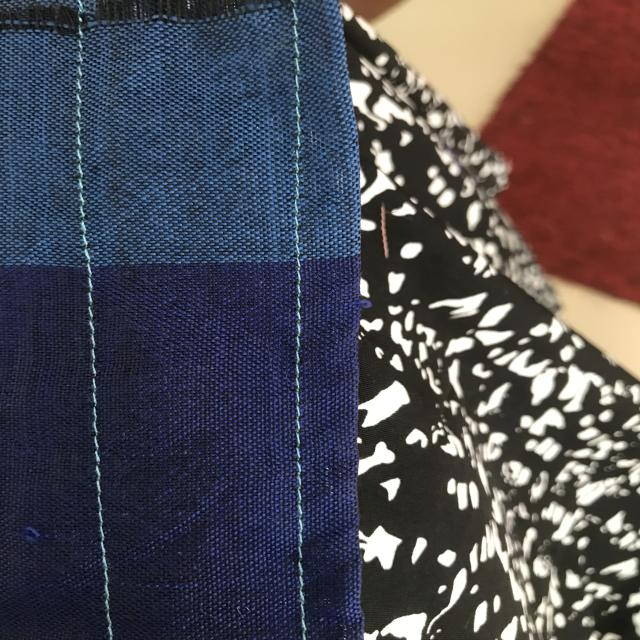good: (74, 280, 131, 612), (280, 284, 314, 614), (63, 48, 104, 252), (284, 34, 311, 245)
